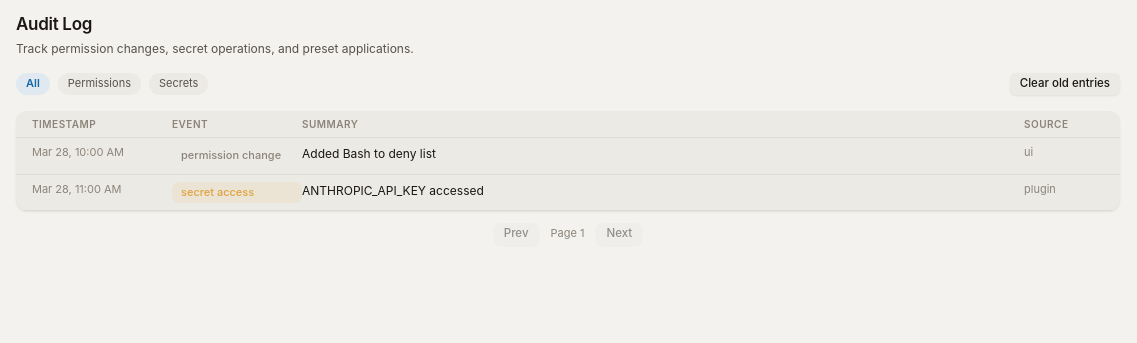
Test: AuditLogPage — row expansion › clicking a row with details expands it and shows JSON details
Click the text "Added Bash to deny list".
click(369, 154)  # box [302, 146, 436, 162]
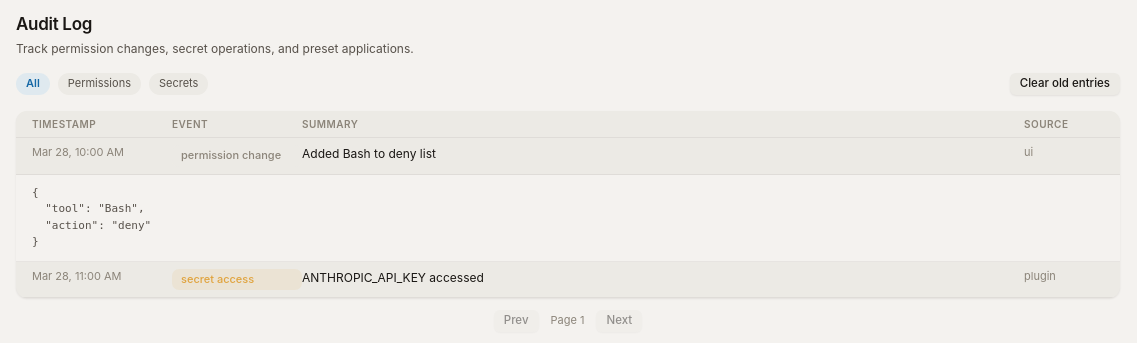
Check: the text "{ \"tool\": \"Bash\", \"action\": \"deny\" }" is shown, box [32, 186, 151, 248]
